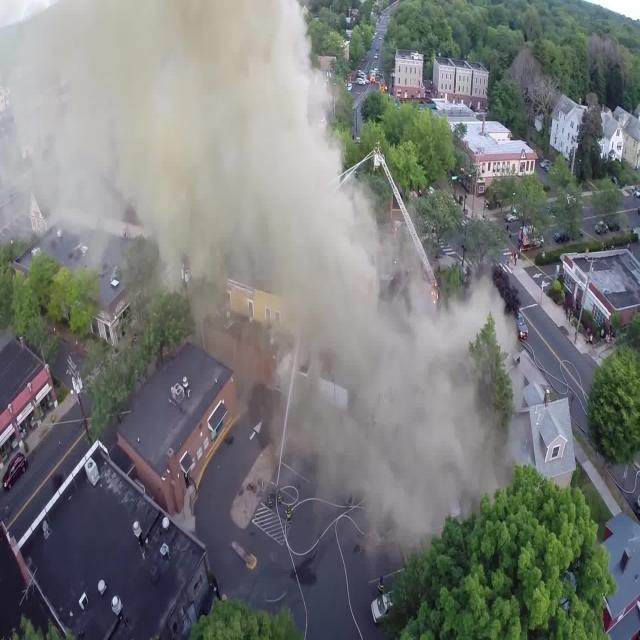Smoke: (0, 0, 532, 568)
